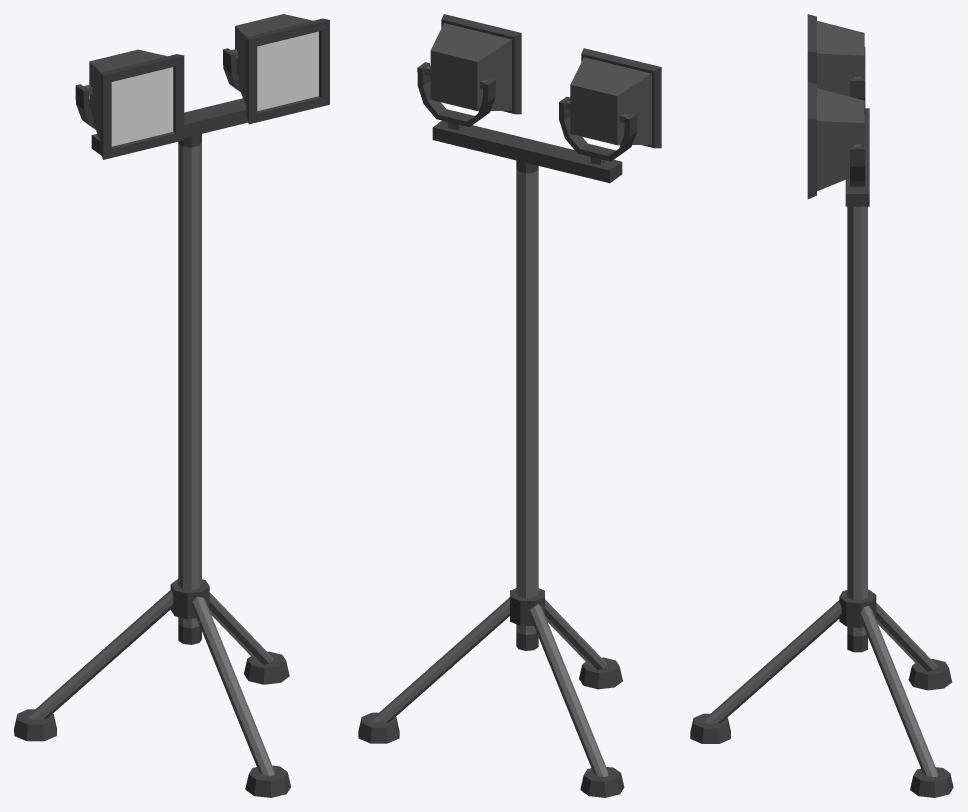
File: SM_IndustrialProps_Light_01.fbx
The picture shows the model from 3 angles, left to right: view 1: azimuth 30°, elevation 25°; view 2: azimuth 150°, elevation 25°; view 3: azimuth 270°, elevation 25°; orthographic projection. The views are drawn at different scales.
Visible parts, largest first — view 1: SM_IndustrialProps_Light_01; view 2: SM_IndustrialProps_Light_01; view 3: SM_IndustrialProps_Light_01.
Part boxes in pixels (left/top/right/bottom): SM_IndustrialProps_Light_01: left=14, top=14, right=329, bottom=797; SM_IndustrialProps_Light_01: left=358, top=14, right=661, bottom=797; SM_IndustrialProps_Light_01: left=690, top=14, right=953, bottom=797.
Bounding box in the file's own units: 0.6092 × 1.51 × 0.5379.
